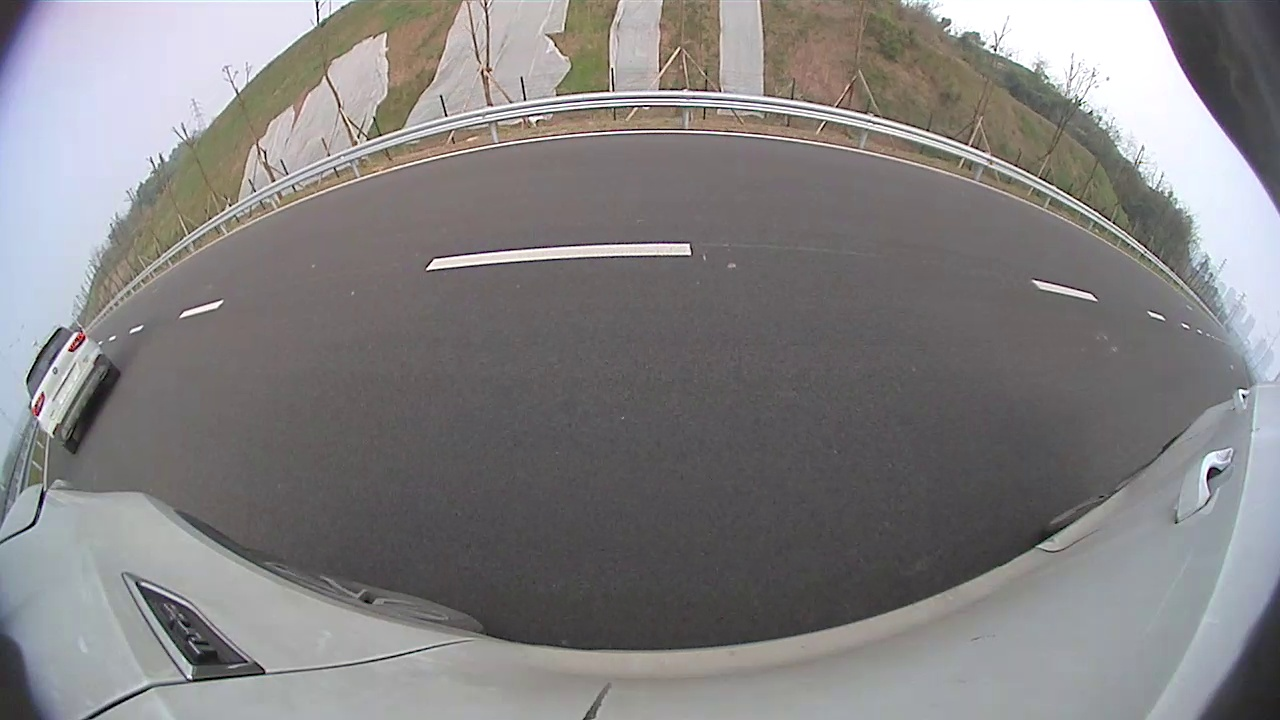car: (465, 145, 564, 213)
rear: (531, 178, 543, 206)
